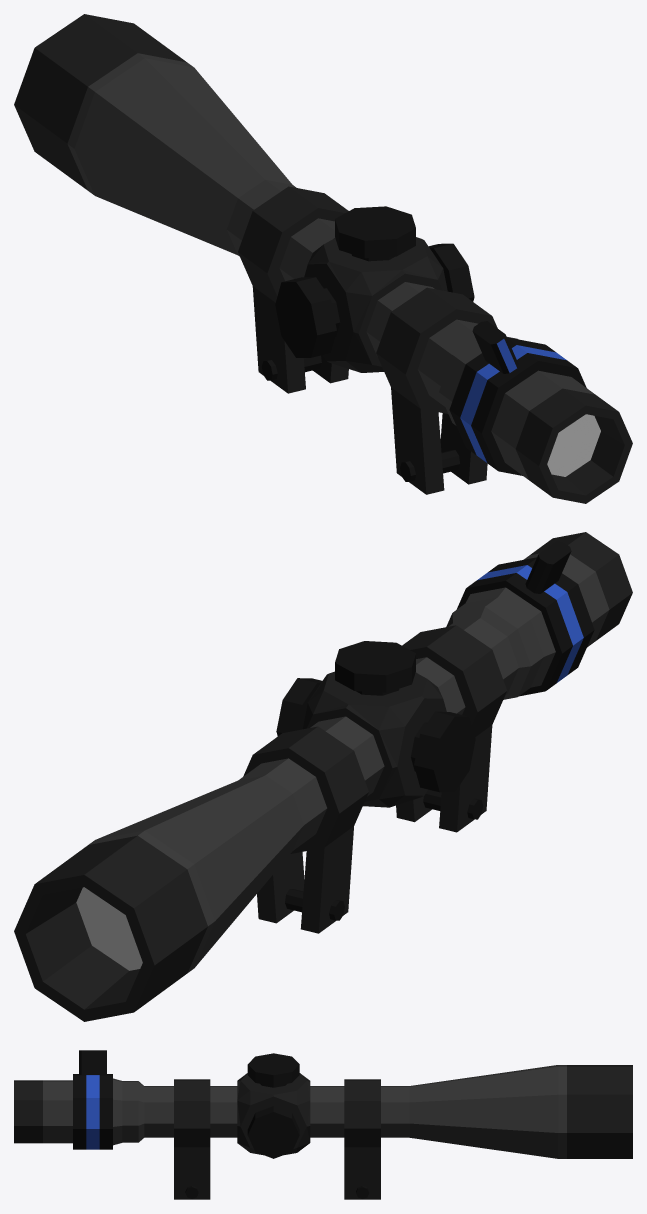
Rendered from Rifle Scope.glb.
The picture shows the model from 3 angles, top to bottom: view 1: azimuth 30°, elevation 25°; view 2: azimuth 150°, elevation 25°; view 3: azimuth 270°, elevation 25°; orthographic projection. The views are drawn at different scales.
Parts seen in each view (by area): view 1: Scope_West; view 2: Scope_West; view 3: Scope_West.
Boxes of the visible parts, x1,y1,x2,y2 form: Scope_West: (14, 14, 632, 503); Scope_West: (14, 532, 632, 1021); Scope_West: (14, 1050, 632, 1199).
Bounding box in the file's own units: 0.0648 × 0.0843 × 0.3581.
